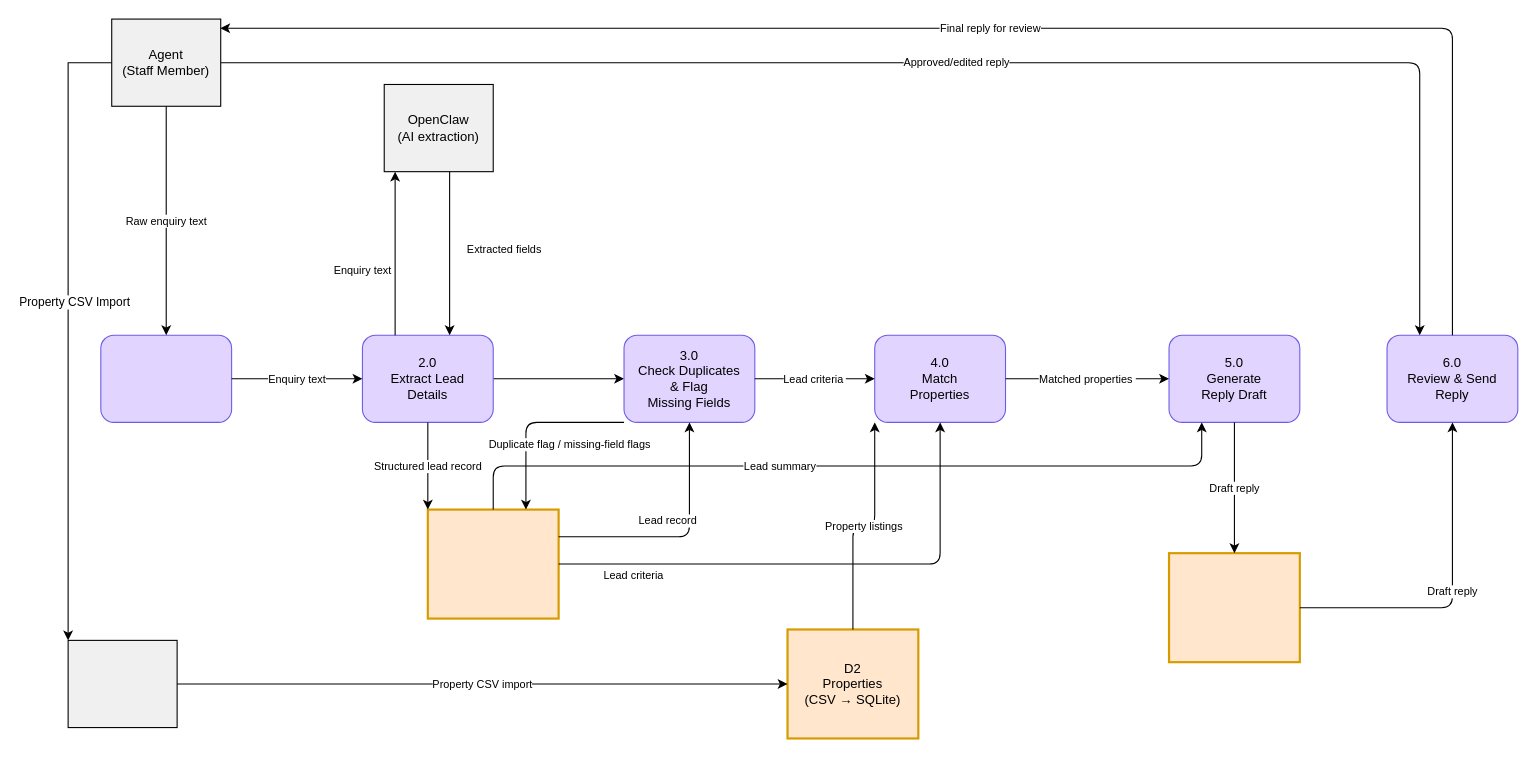
Image size: 1537x759. Some labels were removed from this diagram. The shapes that lost their labels are listed below. From the top down, each one's centre as x and y in pixels, then its label:
point (166, 378): 1.0 Manage Lead Intake
point (492, 563): D1 Leads (SQLite)
point (1233, 607): D3 Reply Drafts
point (122, 683): Property Data Source (CSV file)
